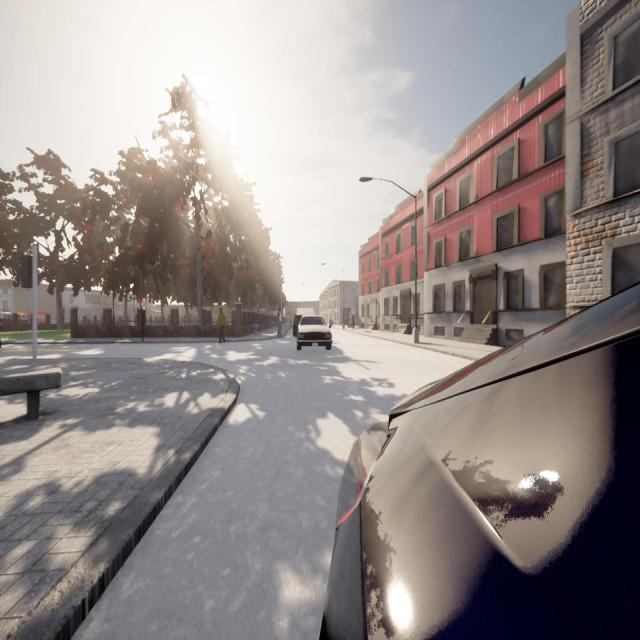Pedestrian: (217, 306, 227, 343), (277, 306, 283, 338), (254, 316, 258, 338)
Traffic_Signs: (140, 297, 147, 311), (350, 307, 356, 315)
Vehicle: (319, 286, 640, 640), (297, 315, 332, 351), (293, 307, 317, 337)
traffic_light: (20, 253, 32, 288)
